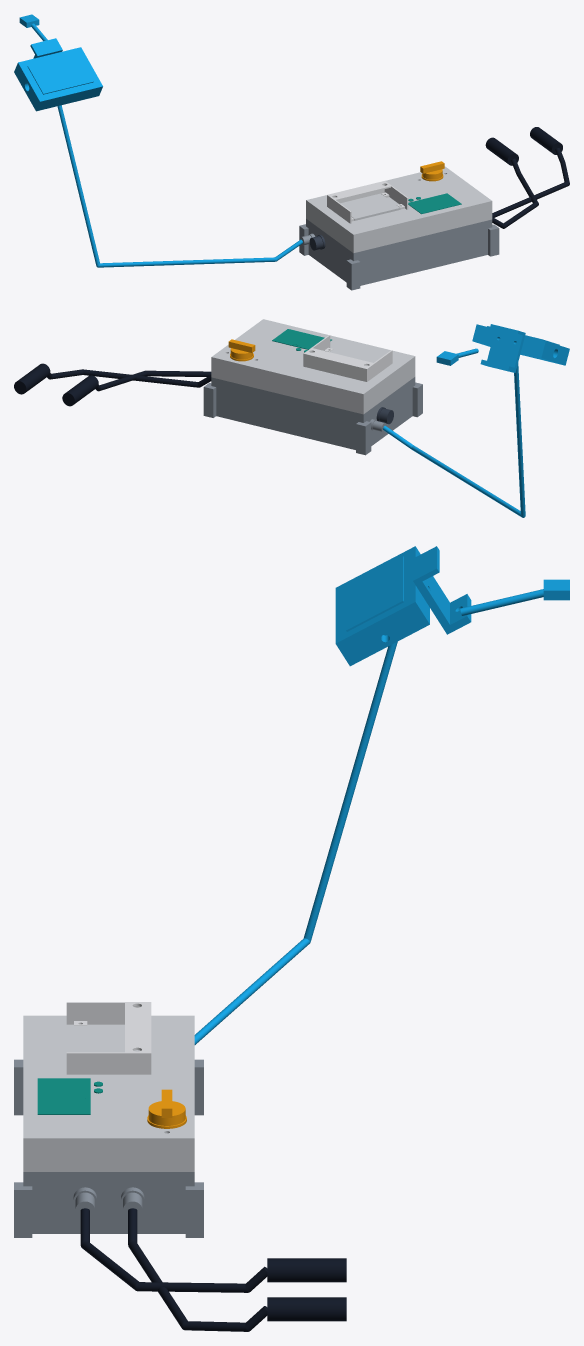
The picture shows the model from 3 angles, top to bottom: view 1: azimuth 30°, elevation 25°; view 2: azimuth 150°, elevation 25°; view 3: azimuth 270°, elevation 25°; orthographic projection. The views are drawn at different scales.
Parts seen in each view (by area): view 1: Enclosure lid with window, Enclosure body, IP54 ABS, Sensor pod: reference cell, temperature, Test leads with MC4 connectors, Display sun hood, printed, Keypad and status LEDs, DC isolator, 2-pole; view 2: Enclosure lid with window, Enclosure body, IP54 ABS, Sensor pod: reference cell, temperature, Test leads with MC4 connectors, Display sun hood, printed, Keypad and status LEDs, DC isolator, 2-pole; view 3: Enclosure lid with window, Sensor pod: reference cell, temperature, Enclosure body, IP54 ABS, Test leads with MC4 connectors, Display sun hood, printed, Keypad and status LEDs, DC isolator, 2-pole.
Boxes of the visible parts, bbox=[...] form: Enclosure lid with window: bbox=[306, 166, 492, 253]; Enclosure body, IP54 ABS: bbox=[299, 219, 499, 290]; Sensor pod: reference cell, temperature: bbox=[14, 14, 302, 267]; Test leads with MC4 connectors: bbox=[485, 127, 569, 228]; Display sun hood, printed: bbox=[327, 181, 408, 223]; Keypad and status LEDs: bbox=[408, 193, 461, 214]; DC isolator, 2-pole: bbox=[420, 161, 444, 181]; Enclosure lid with window: bbox=[211, 319, 415, 414]; Enclosure body, IP54 ABS: bbox=[203, 377, 422, 455]; Sensor pod: reference cell, temperature: bbox=[382, 324, 569, 517]; Test leads with MC4 connectors: bbox=[14, 363, 211, 406]; Display sun hood, printed: bbox=[303, 335, 392, 381]; Keypad and status LEDs: bbox=[272, 329, 331, 352]; DC isolator, 2-pole: bbox=[228, 339, 255, 361]; Enclosure lid with window: bbox=[23, 1015, 194, 1171]; Sensor pod: reference cell, temperature: bbox=[194, 546, 569, 1044]; Enclosure body, IP54 ABS: bbox=[14, 1059, 203, 1237]; Test leads with MC4 connectors: bbox=[80, 1208, 346, 1331]; Display sun hood, printed: bbox=[66, 1002, 151, 1074]; Keypad and status LEDs: bbox=[37, 1078, 102, 1114]; DC isolator, 2-pole: bbox=[147, 1089, 186, 1128].
Bounding box in the file's own units: 0.799 × 0.3187 × 0.4213.
